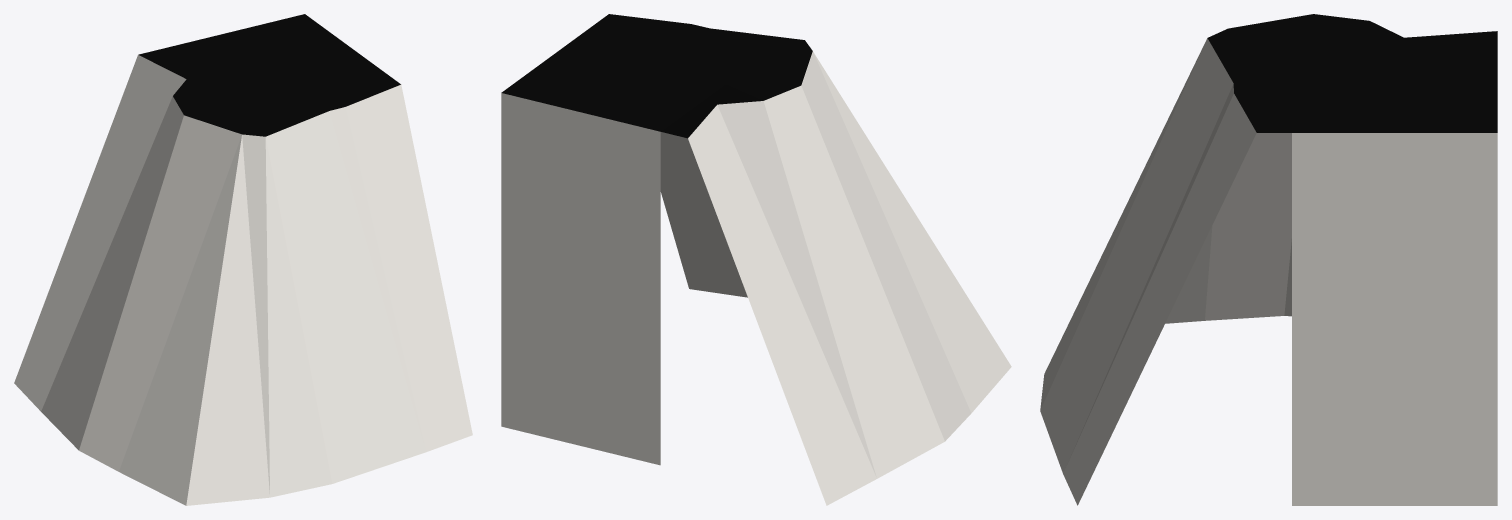
File: Model_Frost_Slope_2STR_CS.fbx
3 views of the same model, side by side, from view 1: azimuth 30°, elevation 25°; view 2: azimuth 150°, elevation 25°; view 3: azimuth 270°, elevation 25° (orthographic). The views are drawn at different scales.
Visible parts, largest first — view 1: Model_Frost_Obstacle4; view 2: Model_Frost_Obstacle4; view 3: Model_Frost_Obstacle4.
Part boxes in pixels (x1,y1,x2,y2): Model_Frost_Obstacle4: (14,14,472,505); Model_Frost_Obstacle4: (501,14,1011,505); Model_Frost_Obstacle4: (1040,14,1497,505).
Bounding box in the file's own units: 219 × 200 × 222.
2 materials, 1 textured.
